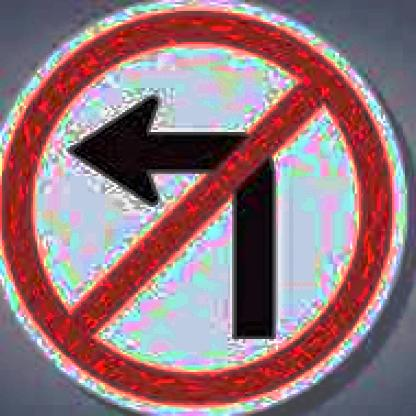No left turn: (6, 3, 407, 410)
